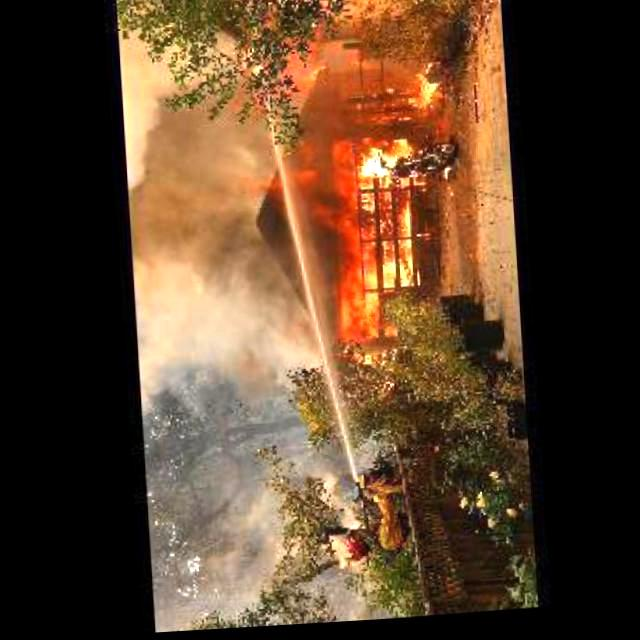fire: (120, 116, 286, 428), (310, 78, 462, 372)
